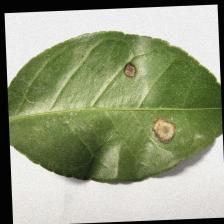canker: (114, 56, 181, 150)
